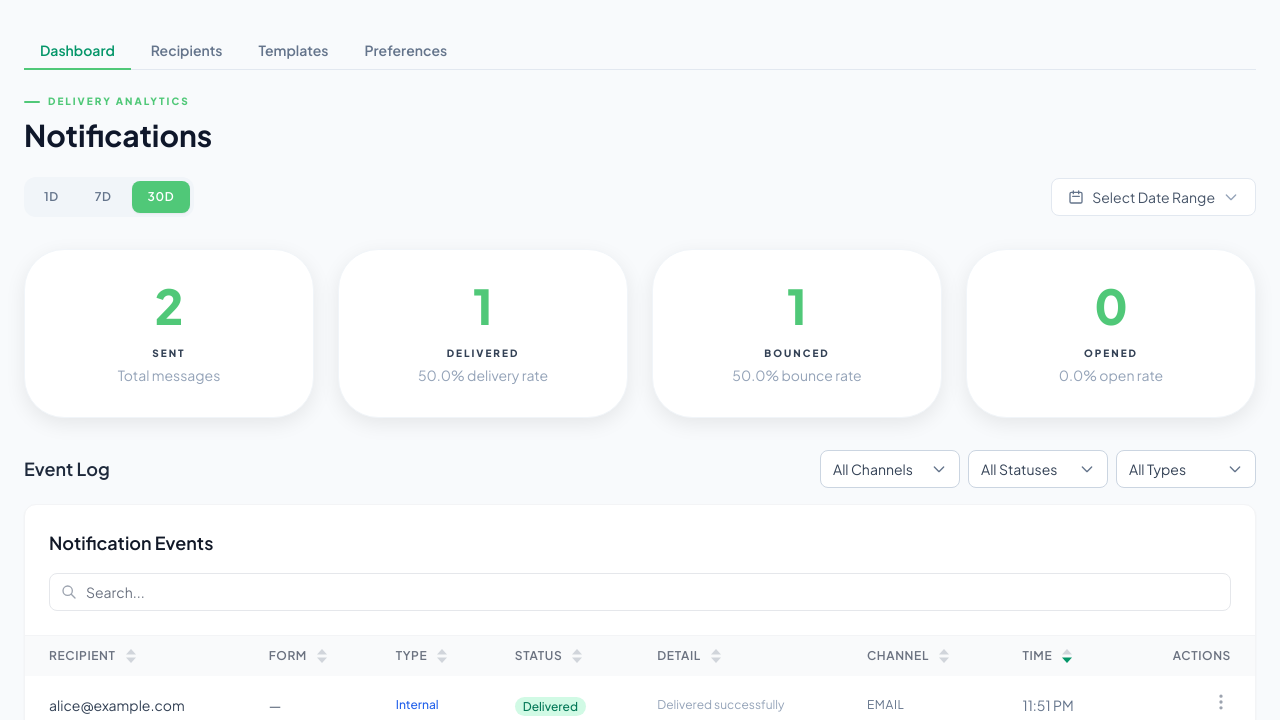
NotificationsDashboard › sub-tab bar › can navigate back to Dashboard tab
Click the tab "Recipients" at coordinates (187, 51), box [135, 32, 238, 70]
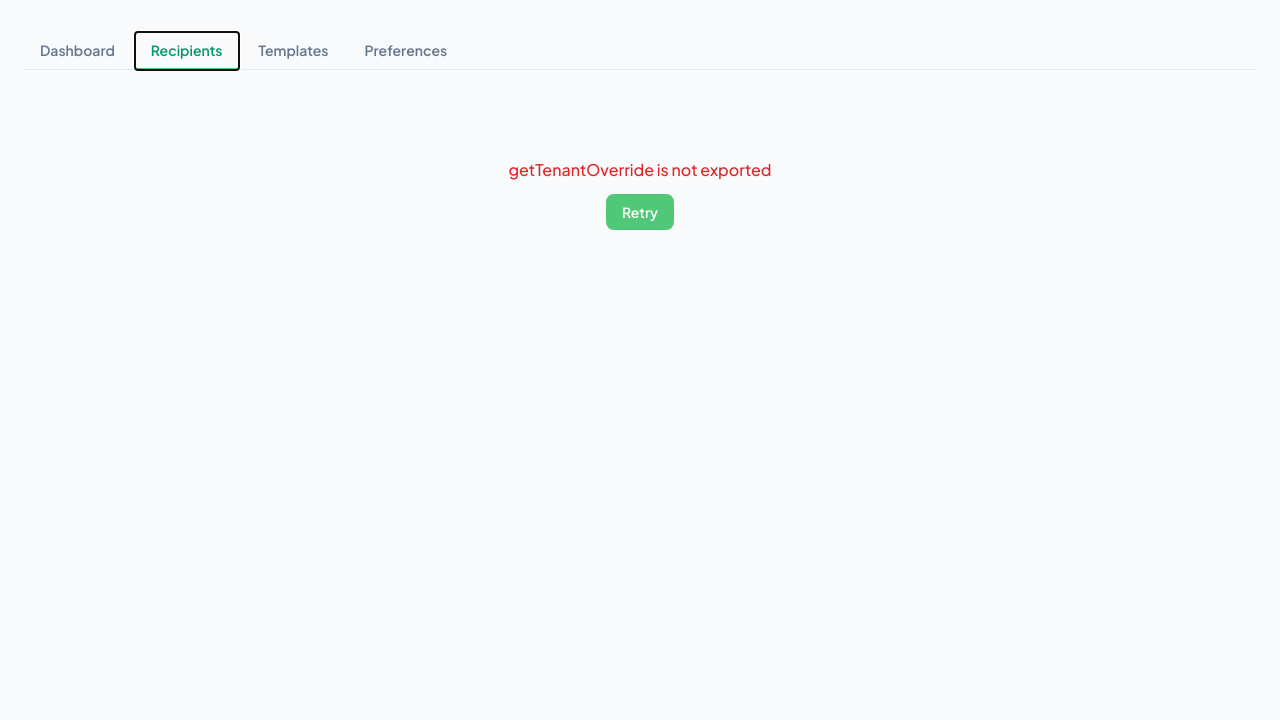
Click the tab "Dashboard" at coordinates (77, 51), box [24, 32, 131, 70]
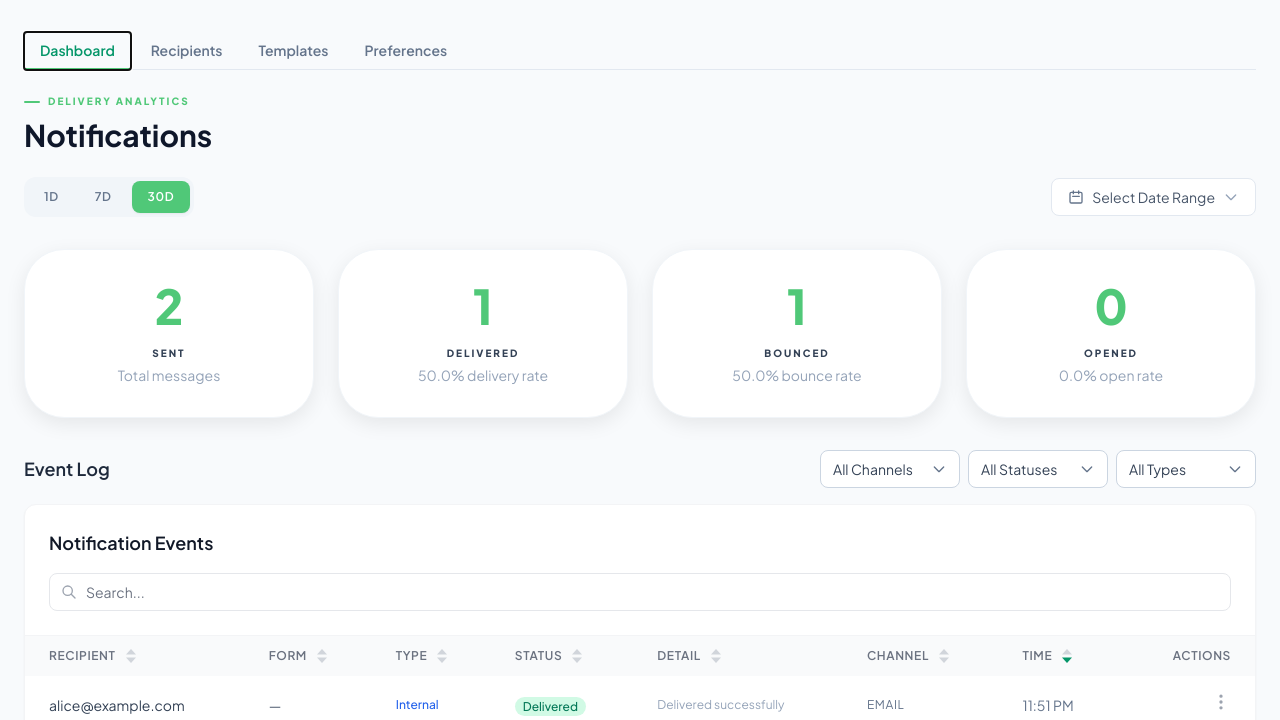
Expected: the text "SENT" is shown, [152, 347, 186, 359]
